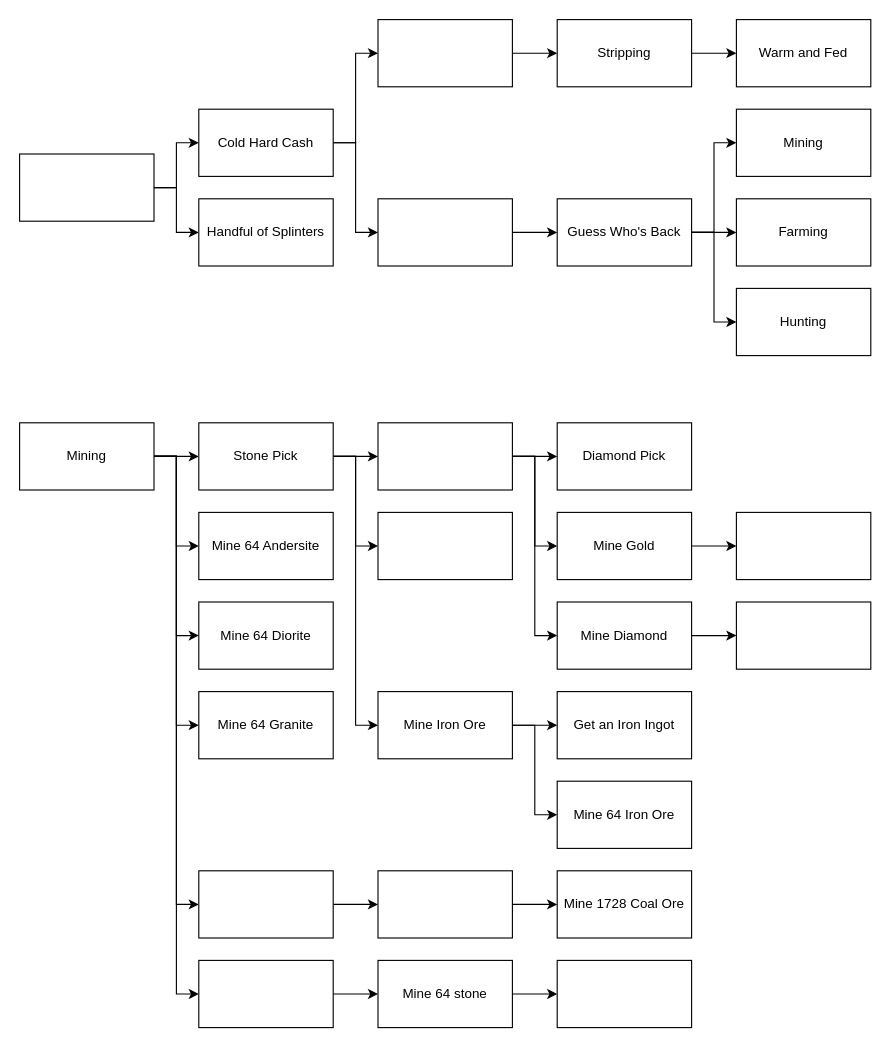
The diagram is 890 pixels wide and 1047 high, and some of its shapes have lost their labels. Here are the shapes that lost their labels. From the top down, the centre of each, then its label:
[444,52]: Back to Basics
[86,187]: Welcome to Fyre
[444,232]: Learning from the Masters
[444,456]: Iron Pick
[444,545]: Mine Lapis
[803,545]: Mine 64 Gold
[803,635]: Sell Diamond
[265,904]: Mine Coal Ore
[444,904]: Mine 64 Coal Ore
[265,993]: Mine Stone
[624,993]: Mine 1728 Stone
